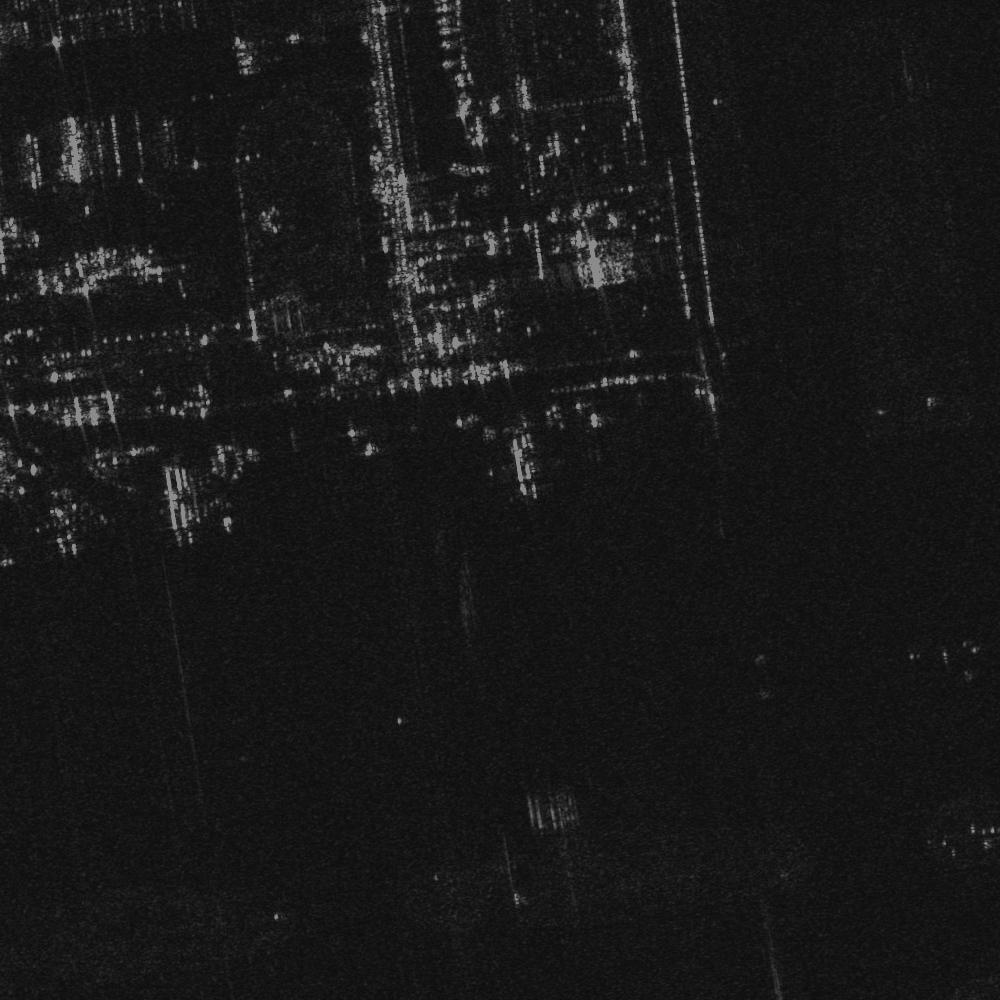Boeing737: (486, 424, 566, 508)
Boeing787: (27, 482, 109, 561)
